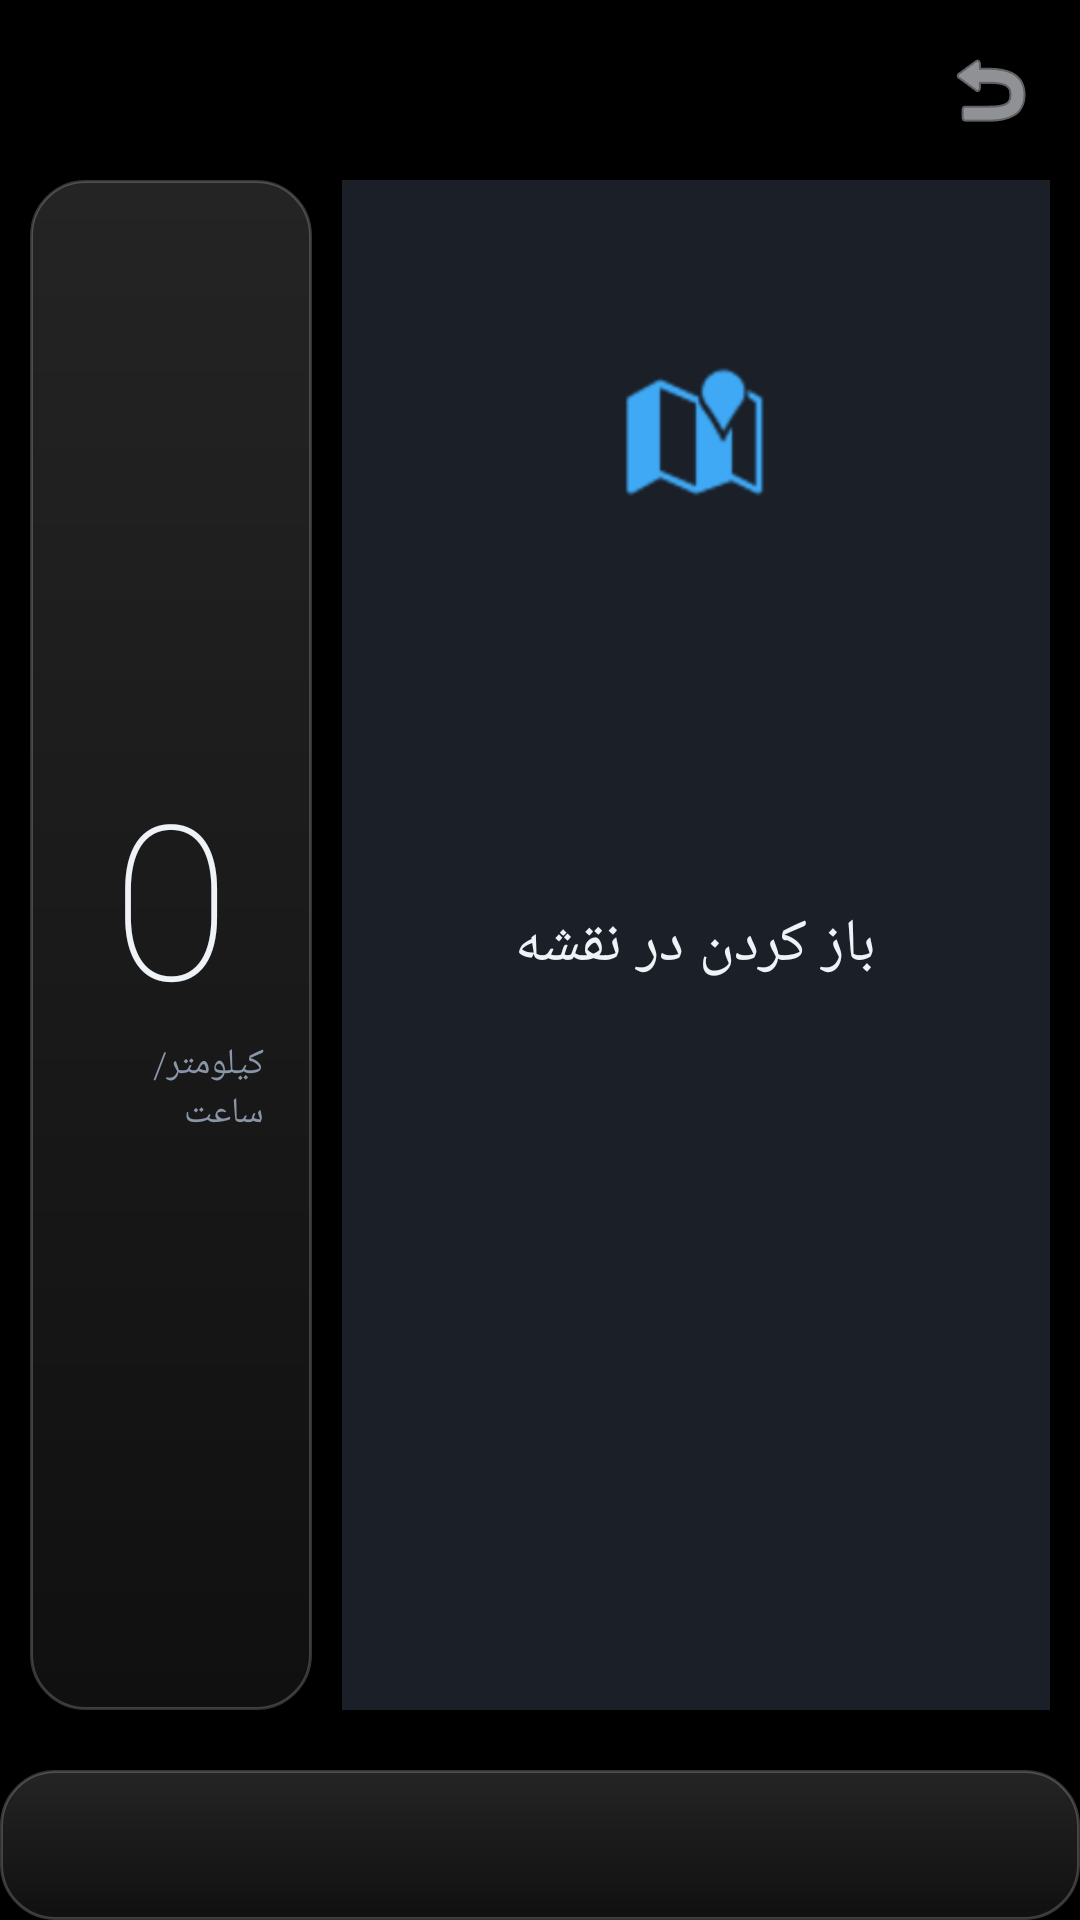

Where to tap for icons on this 1080 x 1920 app screen, as (x=x, y=y):
map: (x=695, y=431)
revert: (x=991, y=90)
